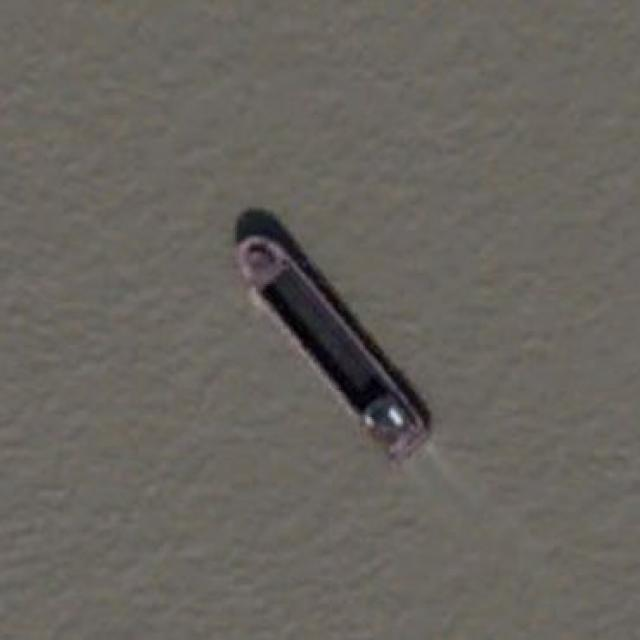boat: (228, 205, 432, 466)
